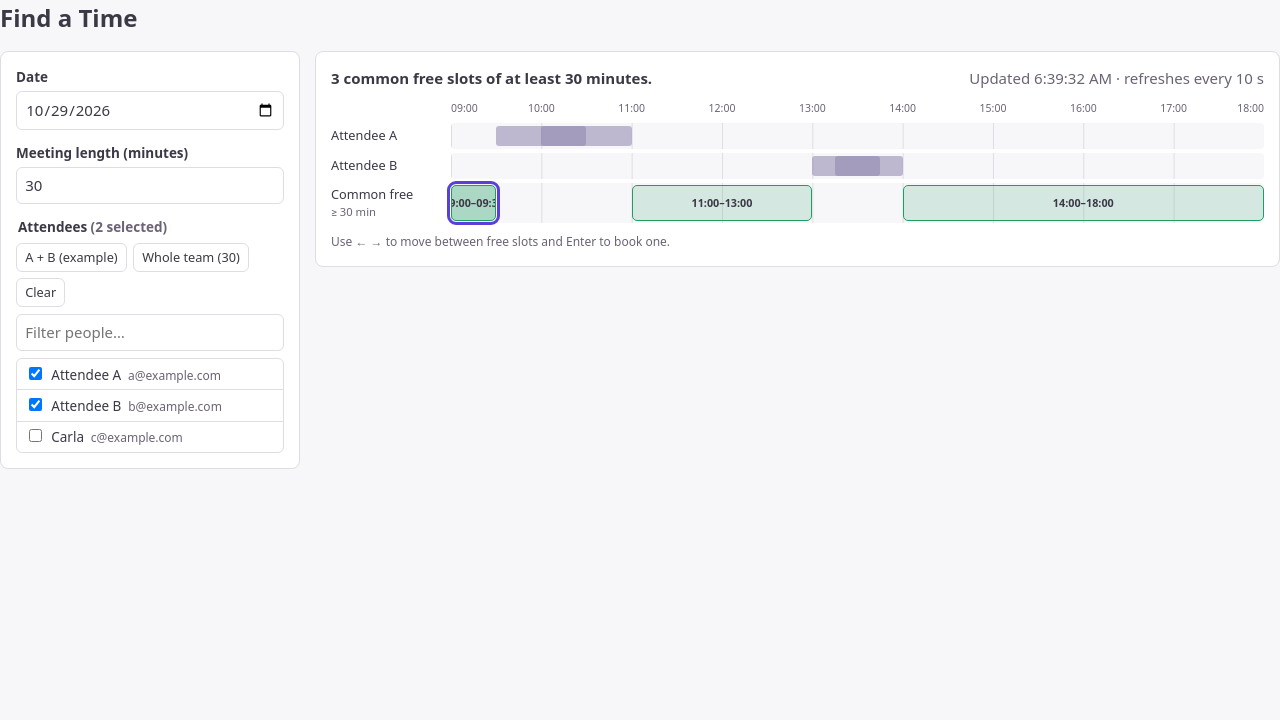
Test: FindATimePage › shows the conflict and recalculates when someone else booked the slot meanwhile
# Keyboard only: Tab to the slots, move to the last one, Enter to book.
Press End Enter
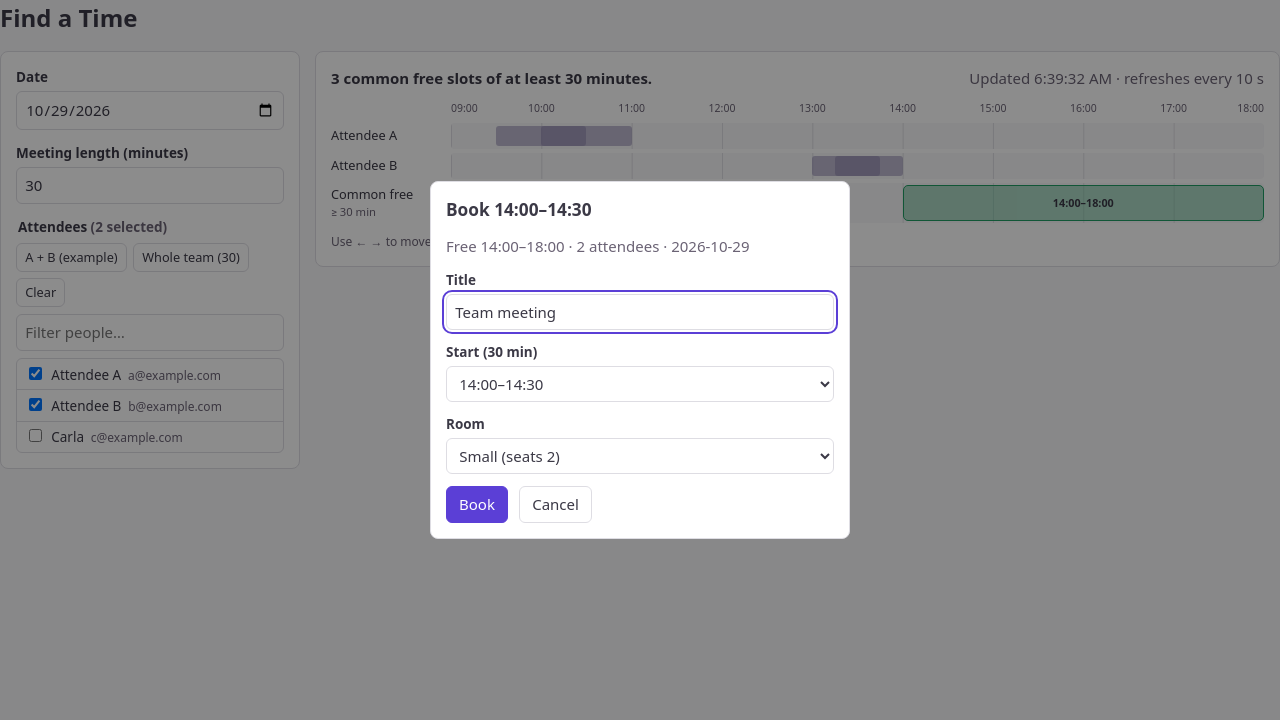
Expected: the dropdown labelled "Room" is shown, [446,438,834,474]
Click the button "Book" at (477, 504), box [446,486,508,523]
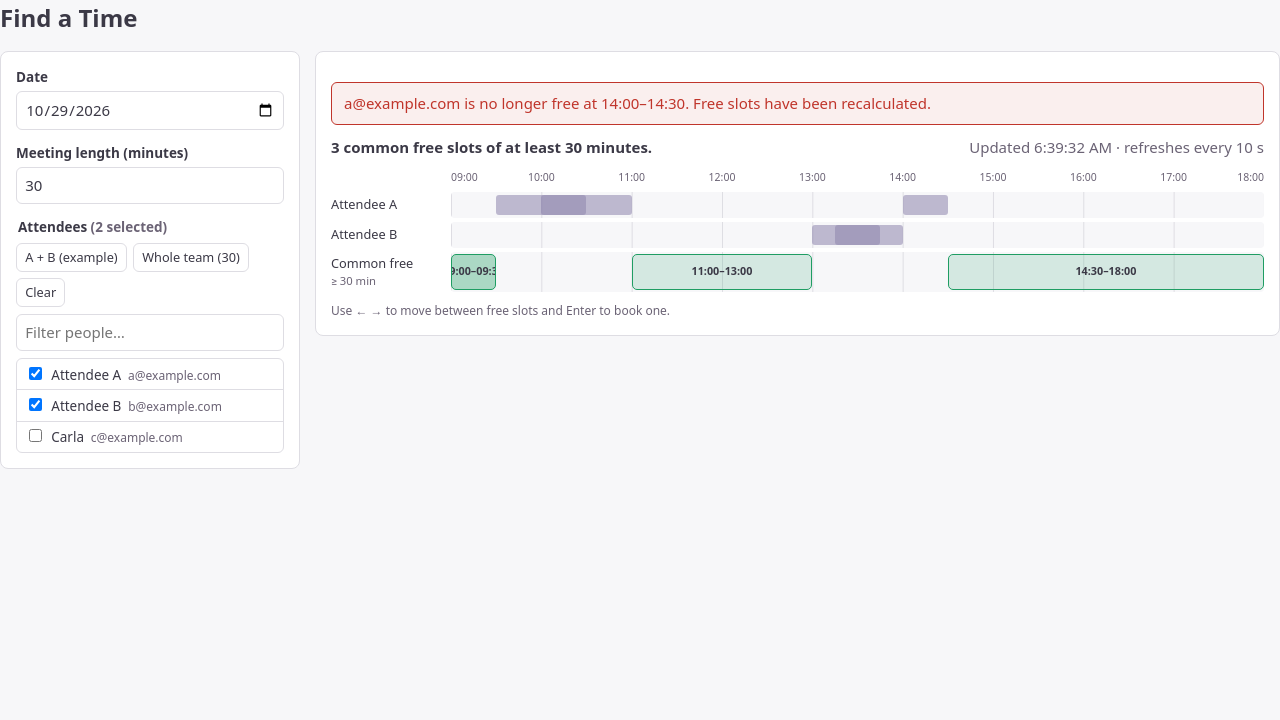
Expected: the dialog is gone
Expected: the option named "Free 14:30 to 18:00" is shown, [948,254,1264,290]
